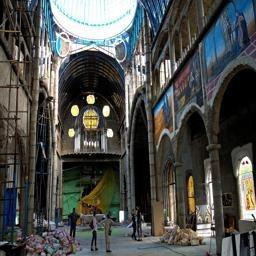no hat: (71, 205, 82, 216), (93, 209, 100, 221), (104, 212, 112, 221)
no vest: (102, 219, 117, 246), (67, 212, 84, 231), (91, 217, 101, 245)
